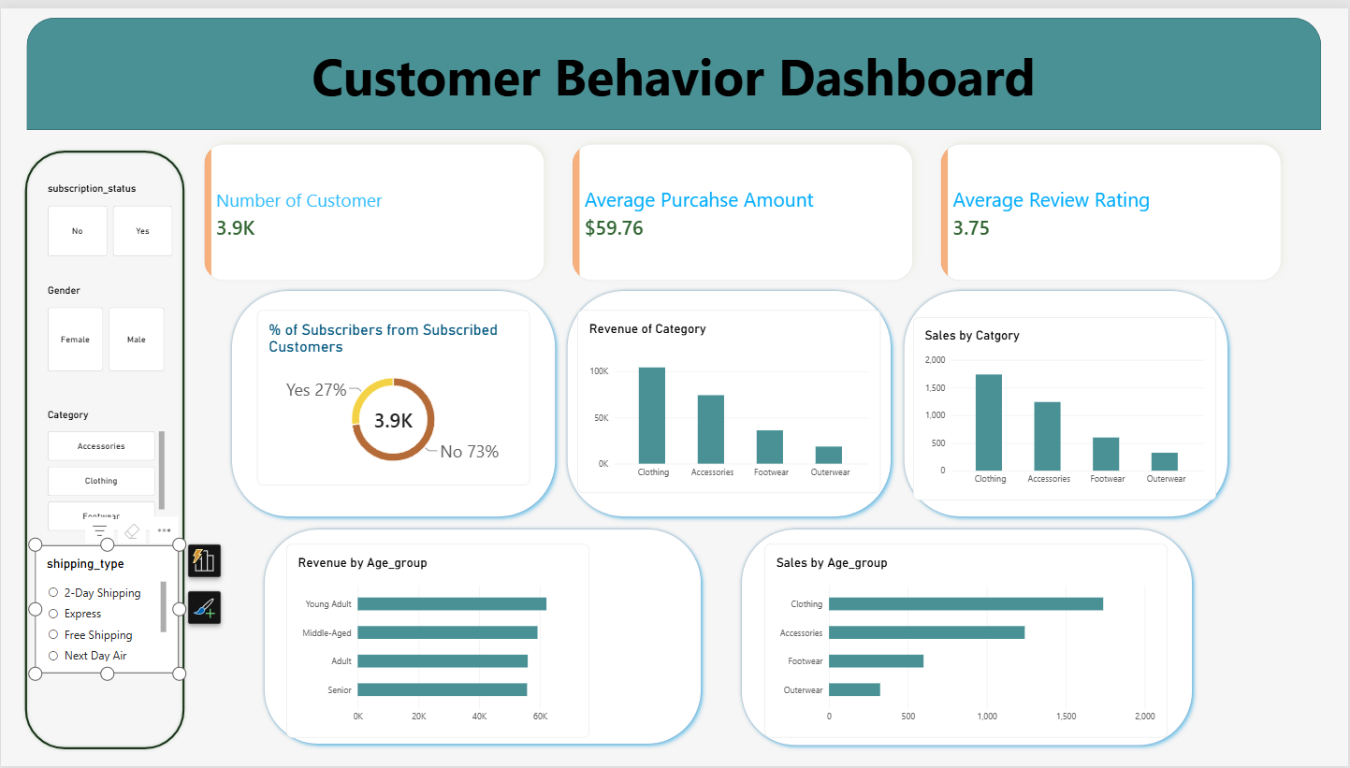

The page's visual inventory and layout, read from the dashboard file:
{"tool":"powerbi","page":{"name":"Page 1","canvas":[1920,1080],"ordinal":0},"visuals":[{"type":"cardVisual","fields":{"Data":["public customer.Number of Customer","public customer.Average Purcahse Amount","public customer.Average Review Rating"]},"box":[266,170,1586,246],"z":0},{"type":"shape","box":[36,14,1845,159.9],"z":1000,"group":"g1"},{"type":"textbox","box":[0,89,1471,160],"z":2000},{"type":"textbox","box":[236.5,47.8,1443.9,147.4],"z":3000,"group":"g1"},{"type":"shape","box":[320,394,479,340.1],"z":4000,"group":"g3"},{"type":"donutChart","title":"% of Subscribers from Subscribed Customers","fields":{"Category":["public customer.subscription_status"],"Y":["CountNonNull(public customer.customer_id)"]},"box":[365.1,430.6,388.7,249.5],"z":5000,"group":"g3"},{"type":"shape","box":[799,394,479,340.1],"z":6000,"group":"g3"},{"type":"shape","box":[1278,394,479,340.1],"z":7000,"group":"g3"},{"type":"clusteredColumnChart","title":"Revenue of Category","fields":{"Category":["public customer.category"],"Y":["Sum(public customer.purchase_amount)"]},"box":[821.5,430.6,432.1,260.7],"z":8000,"group":"g3"},{"type":"clusteredColumnChart","title":"Sales by Catgory","fields":{"Category":["public customer.category"],"Y":["CountNonNull(public customer.purchase_amount)"]},"box":[1300.5,440.1,432.1,260.7],"z":9000,"group":"g3"},{"type":"clusteredColumnChart","title":"Sales by Catgory","fields":{"Category":["public customer.purchase_amount"],"Y":["CountNonNull(public customer.purchase_amount)"]},"box":[406,768,432.1,260.7],"z":9000},{"type":"shape","box":[30,198,236,862],"z":10000,"group":"g2"},{"type":"advancedSlicerVisual","fields":{"Values":["public customer.subscription_status"]},"box":[66.2,247.5,179.4,104.8],"z":11000,"group":"g2"},{"type":"advancedSlicerVisual","title":"Gender","fields":{"Values":["public customer.gender"]},"box":[66.2,393.2,167,124.4],"z":12000,"group":"g2"},{"type":"advancedSlicerVisual","title":"Category","fields":{"Values":["public customer.category"]},"box":[66.2,569.1,167,177.6],"z":12001,"group":"g2"},{"type":"listSlicer","fields":{"Values":["public customer.shipping_type"]},"box":[48.4,764.5,204.3,183],"z":12002,"group":"g2"},{"type":"shape","box":[366,734,640,324],"z":12003},{"type":"group","id":"g1","title":"Group 1","box":[36,14,1860,182],"z":12004},{"type":"group","id":"g2","title":"Group 2","box":[30,198,236,862],"z":12005},{"type":"group","id":"g3","title":"Group 3","box":[320,394,1450,340],"z":12006},{"type":"shape","box":[1046,734,660,326],"z":12007},{"type":"clusteredBarChart","title":"Revenue by Age_group","fields":{"Category":["public customer.age_group"],"Y":["Sum(public customer.purchase_amount)"]},"box":[406,764,432,276],"z":12008},{"type":"clusteredBarChart","title":"Sales by Age_group","fields":{"Category":["public customer.category"],"Y":["CountNonNull(public customer.purchase_amount)"]},"box":[1088,764,574,276],"z":12009}]}

Visuals, with their boxes in screenshot pixels (x1, y1, x2, y2), scaled from the page's 1920x1080 canvas onto the 1350x768 screenshot:
cardVisual - public customer.Number of Customer x public customer.Average Purcahse Amount: <box>187,121,1302,296</box>
shape: <box>25,10,1323,124</box>
textbox: <box>0,63,1034,177</box>
textbox: <box>166,34,1182,139</box>
shape: <box>225,280,562,522</box>
"% of Subscribers from Subscribed Customers" donutChart: <box>257,306,530,484</box>
shape: <box>562,280,899,522</box>
shape: <box>899,280,1235,522</box>
"Revenue of Category" clusteredColumnChart: <box>578,306,881,492</box>
"Sales by Catgory" clusteredColumnChart: <box>914,313,1218,498</box>
"Sales by Catgory" clusteredColumnChart: <box>285,546,589,732</box>
shape: <box>21,141,187,754</box>
advancedSlicerVisual - public customer.subscription_status: <box>47,176,173,251</box>
"Gender" advancedSlicerVisual: <box>47,280,164,368</box>
"Category" advancedSlicerVisual: <box>47,405,164,531</box>
listSlicer - public customer.shipping_type: <box>34,544,178,674</box>
shape: <box>257,522,707,752</box>
"Group 1" group: <box>25,10,1333,139</box>
"Group 2" group: <box>21,141,187,754</box>
"Group 3" group: <box>225,280,1245,522</box>
shape: <box>735,522,1200,754</box>
"Revenue by Age_group" clusteredBarChart: <box>285,543,589,740</box>
"Sales by Age_group" clusteredBarChart: <box>765,543,1169,740</box>
